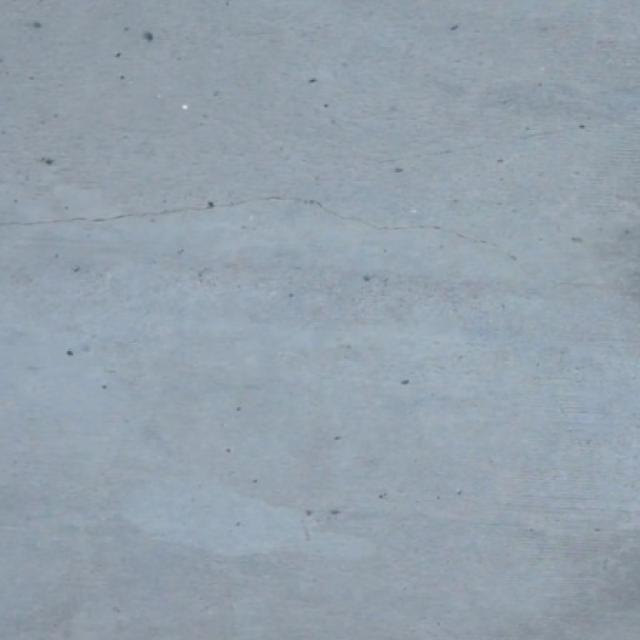Horizontal Crack: (0, 192, 519, 266)
